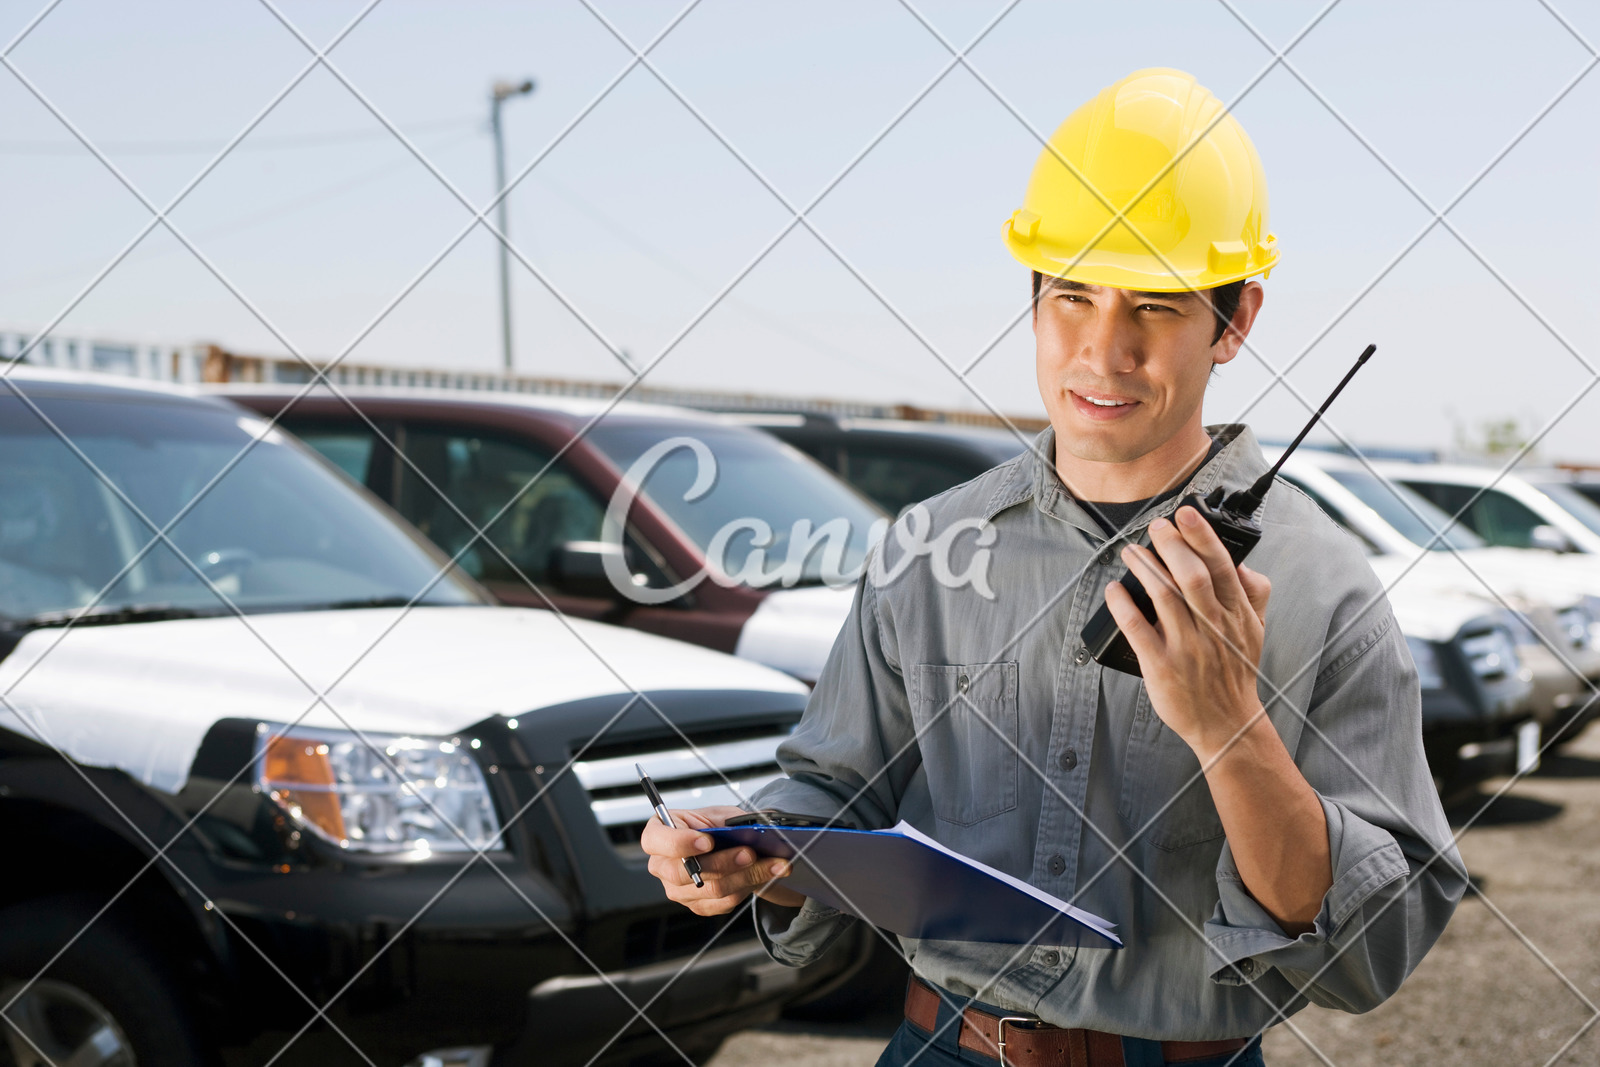Person_wearing_helmet: (993, 54, 1299, 341)
